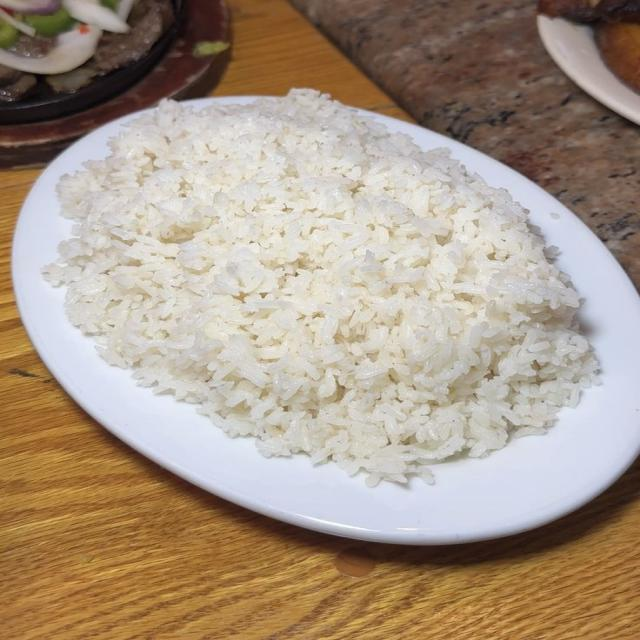rice: (45, 90, 597, 484)
